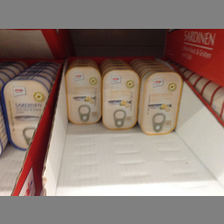fish: (2, 76, 48, 150), (138, 70, 183, 137), (64, 66, 103, 125), (102, 69, 139, 130)
